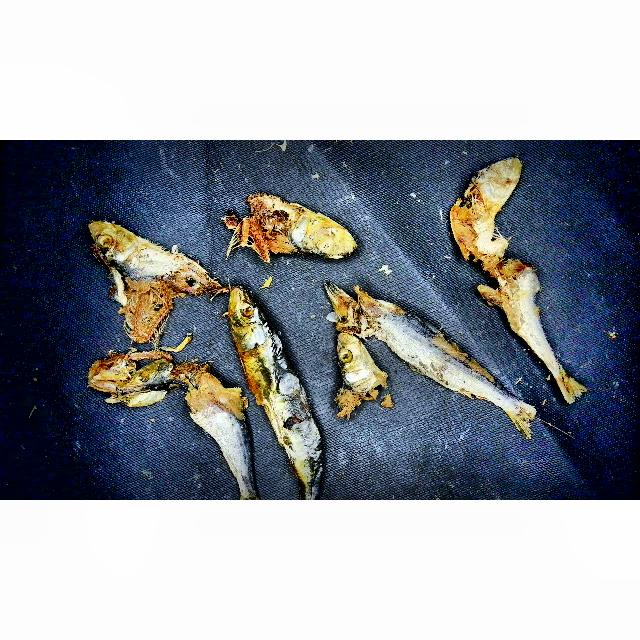Rejected_Body: (351, 287, 494, 404), (240, 347, 329, 491), (176, 367, 256, 484), (473, 262, 565, 361)
Rejected_Head: (71, 211, 211, 334), (205, 195, 368, 261), (440, 151, 532, 255), (75, 346, 185, 410), (323, 329, 396, 421), (225, 284, 278, 360)
Rejected_Tail: (530, 350, 602, 410), (490, 394, 542, 441)
